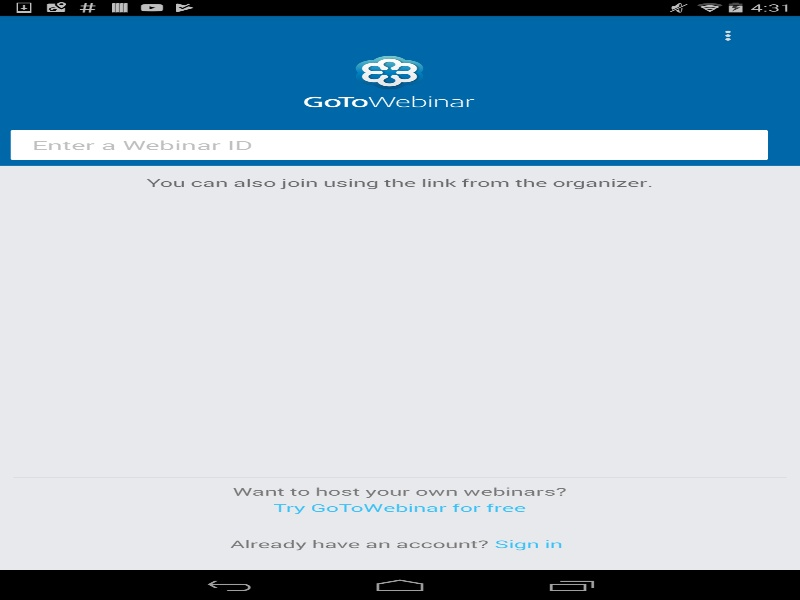Input: (13, 130, 765, 160)
